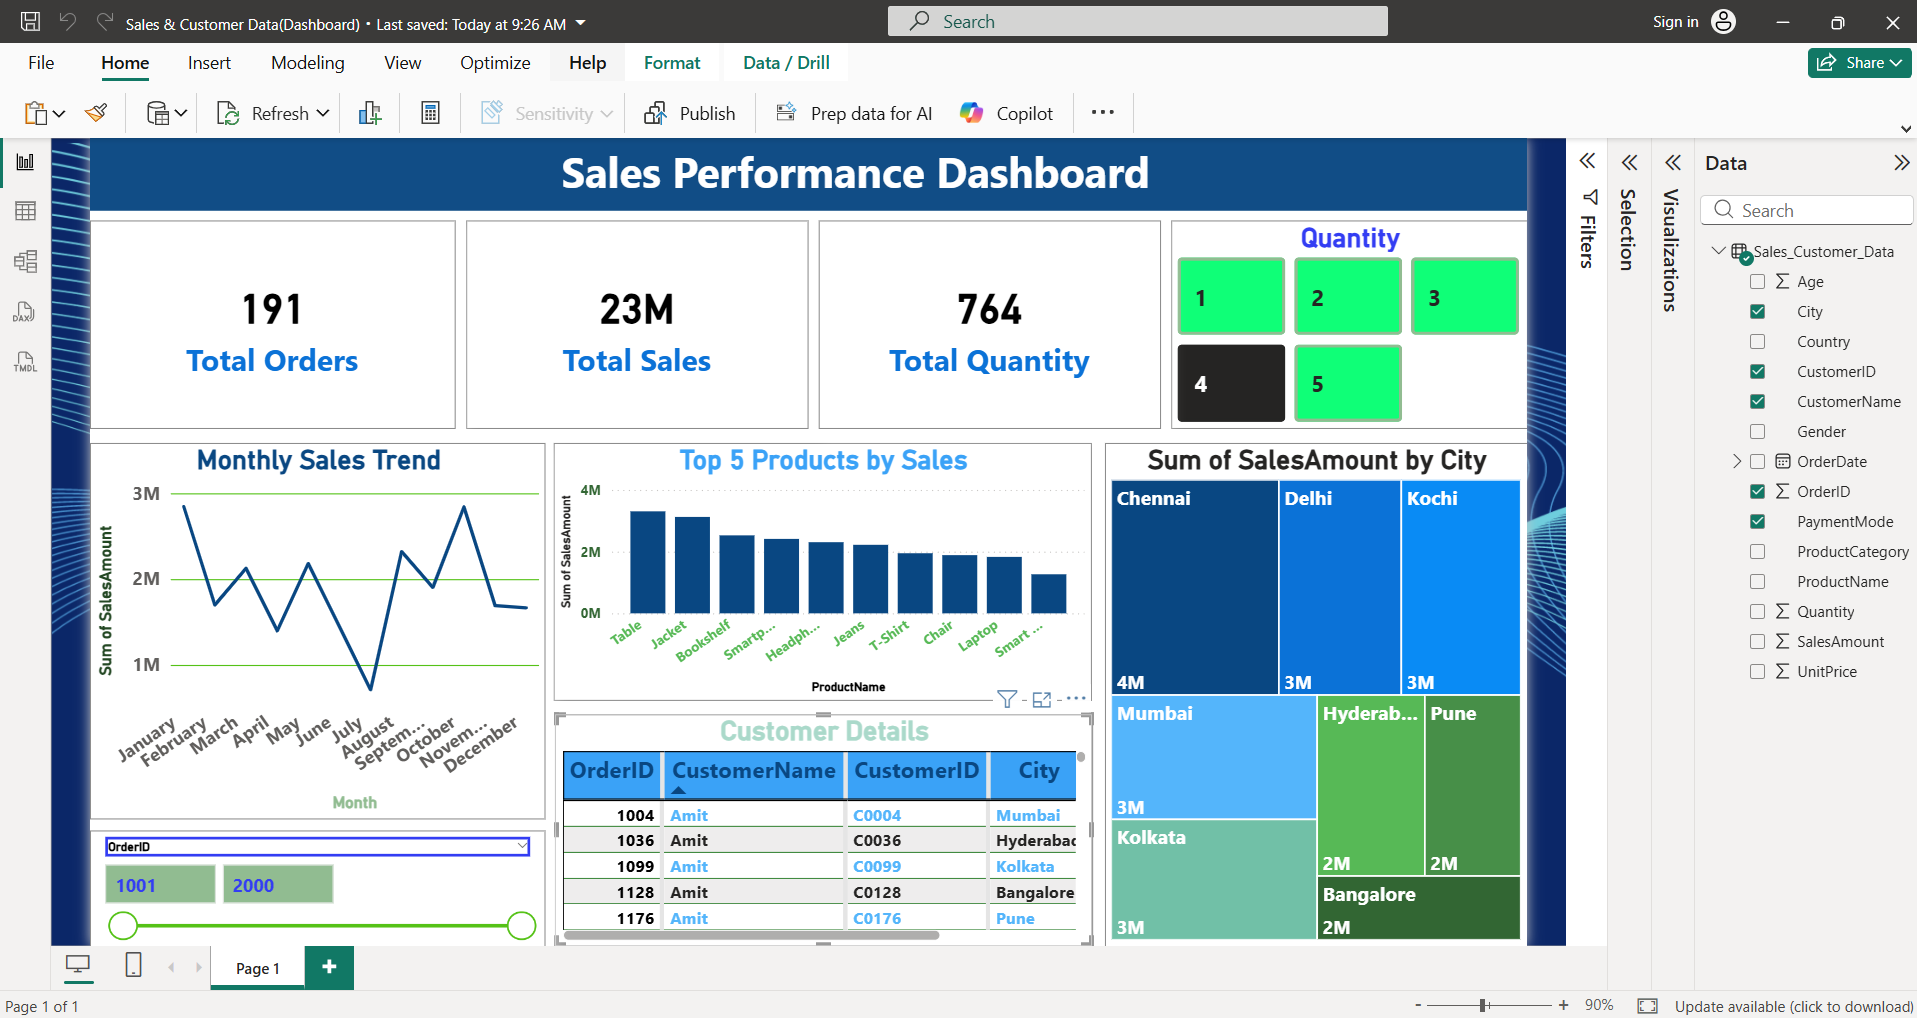

The page's visual inventory and layout, read from the dashboard file:
{"tool":"powerbi","page":{"name":"Page 1","canvas":[1280,720],"ordinal":0},"visuals":[{"type":"textbox","box":[0,0,1280,65.1],"z":0},{"type":"card","fields":{"Values":["Sales_Customer_Data.SalesAmount"]},"box":[335.1,73.4,304.5,185.9],"z":1000},{"type":"card","fields":{"Values":["Sales_Customer_Data.OrderID"]},"box":[0,73.4,325.3,185.9],"z":2000},{"type":"clusteredColumnChart","title":"Top 5 Products by Sales","fields":{"Category":["Sales_Customer_Data.ProductName"],"Y":["Sales_Customer_Data.SalesAmount"]},"box":[413.3,271.5,479.4,229.9],"z":3000},{"type":"lineChart","title":"Monthly Sales Trend","fields":{"Y":["Sales_Customer_Data.SalesAmount"],"Category":["Sales_Customer_Data.OrderDate.Variation.Date Hierarchy.Month"]},"box":[0,271.5,406,335.1],"z":4000},{"type":"tableEx","title":"Customer Details","fields":{"Values":["Sales_Customer_Data.OrderID","Sales_Customer_Data.CustomerName","Sales_Customer_Data.CustomerID","Sales_Customer_Data.City","Sales_Customer_Data.PaymentMode"]},"box":[413.8,512.7,479,207.5],"z":5000},{"type":"slicer","fields":{"Values":["Sales_Customer_Data.OrderID"]},"box":[0,616.3,406,103.9],"z":6000},{"type":"advancedSlicerVisual","fields":{"Values":["Sales_Customer_Data.Quantity"]},"box":[962.4,73.4,317.9,185.9],"z":7000},{"type":"card","fields":{"Values":["Sales_Customer_Data.Quantity"]},"box":[649.3,73.4,304.5,185.9],"z":8000},{"type":"treemap","fields":{"Values":["Sales_Customer_Data.SalesAmount"],"Group":["Sales_Customer_Data.City"]},"box":[903.7,271.5,376.6,448.8],"z":9000}]}

Visuals, with their boxes on the page's 1280x720 design canvas (x1, y1, x2, y2). These are canvas units, not pixel positions in the 1917x1018 screenshot, which may show the page scaled, cropped or inside an application window:
textbox: [x1=0, y1=0, x2=1280, y2=65]
card - Sales_Customer_Data.SalesAmount: [x1=335, y1=73, x2=640, y2=259]
card - Sales_Customer_Data.OrderID: [x1=0, y1=73, x2=325, y2=259]
"Top 5 Products by Sales" clusteredColumnChart: [x1=413, y1=272, x2=893, y2=501]
"Monthly Sales Trend" lineChart: [x1=0, y1=272, x2=406, y2=607]
"Customer Details" tableEx: [x1=414, y1=513, x2=893, y2=720]
slicer - Sales_Customer_Data.OrderID: [x1=0, y1=616, x2=406, y2=720]
advancedSlicerVisual - Sales_Customer_Data.Quantity: [x1=962, y1=73, x2=1280, y2=259]
card - Sales_Customer_Data.Quantity: [x1=649, y1=73, x2=954, y2=259]
treemap - Sales_Customer_Data.SalesAmount x Sales_Customer_Data.City: [x1=904, y1=272, x2=1280, y2=720]
